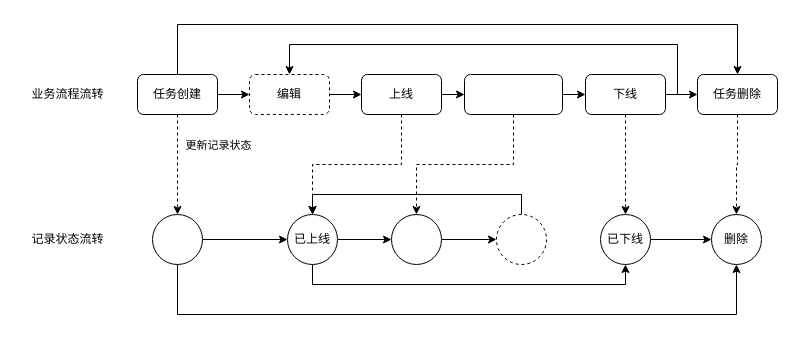
The diagram is 795 pixels wide and 340 high, and some of its shapes have lost their labels. Each missing label, with the centre of its shape:
完成/异常: the point at 521,239
调度/触发/手动 执行: the point at 513,94
运行中: the point at 416,239
默认: the point at 177,239
